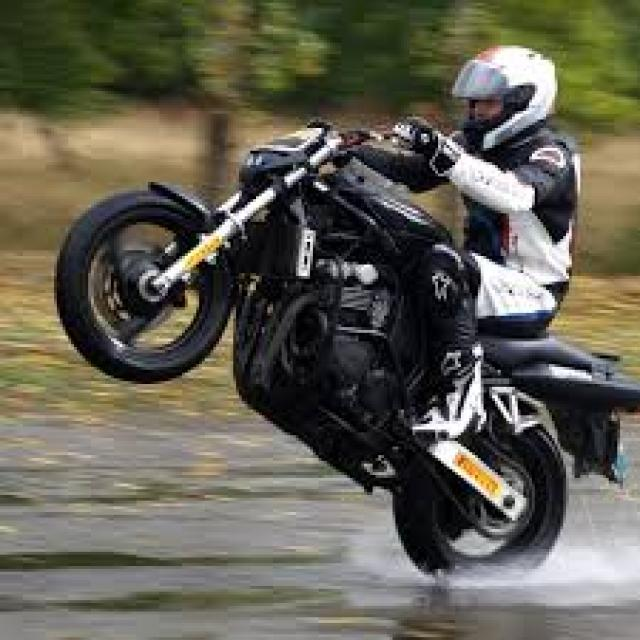Wheeling: (68, 40, 640, 583)
